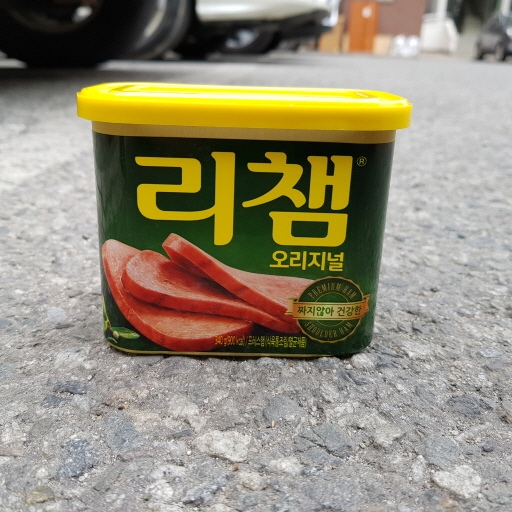Metal_2: (74, 81, 414, 362)
